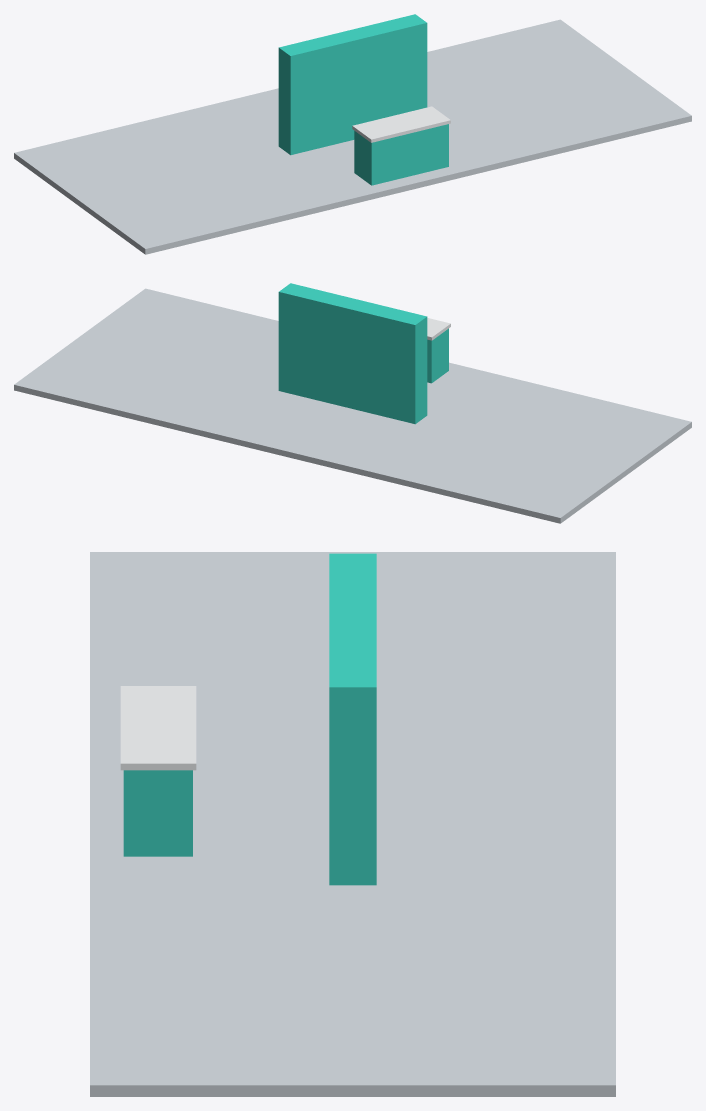
3 renders of one model, top to bottom at view 1: azimuth 30°, elevation 25°; view 2: azimuth 150°, elevation 25°; view 3: azimuth 270°, elevation 25°, orthographic. The views are drawn at different scales.
Visible parts, largest first — view 1: Exhibition Booth Concept; view 2: Exhibition Booth Concept; view 3: Exhibition Booth Concept.
Part boxes in pixels (x1,y1,x2,y2): Exhibition Booth Concept: (14, 14, 691, 254); Exhibition Booth Concept: (14, 283, 691, 523); Exhibition Booth Concept: (90, 552, 615, 1096).
Size of the model in its own units: 12 by 2.2 by 5.
